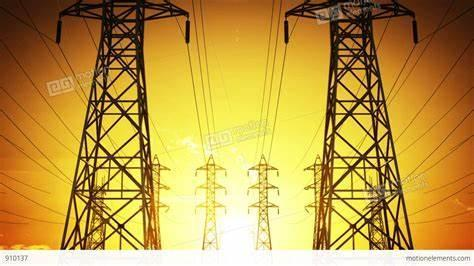power_tower: (283, 4, 434, 250), (49, 0, 192, 253), (243, 151, 287, 252), (190, 151, 232, 252)
